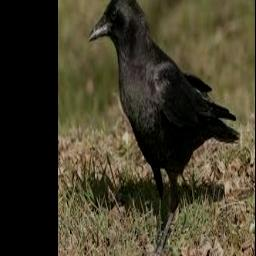Crow: (89, 0, 238, 256)
